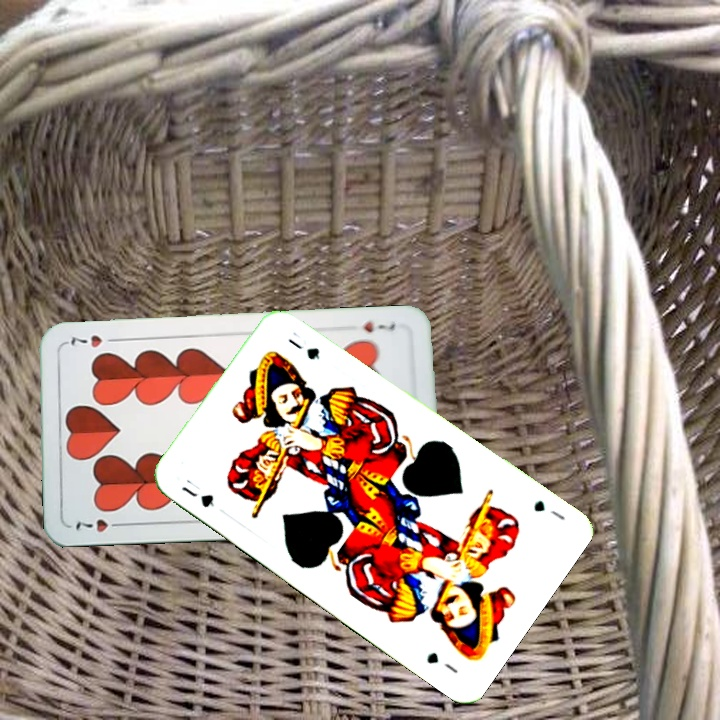GU: (177, 482, 217, 511), (529, 495, 568, 523)
H7: (71, 515, 127, 535), (360, 317, 398, 335)
